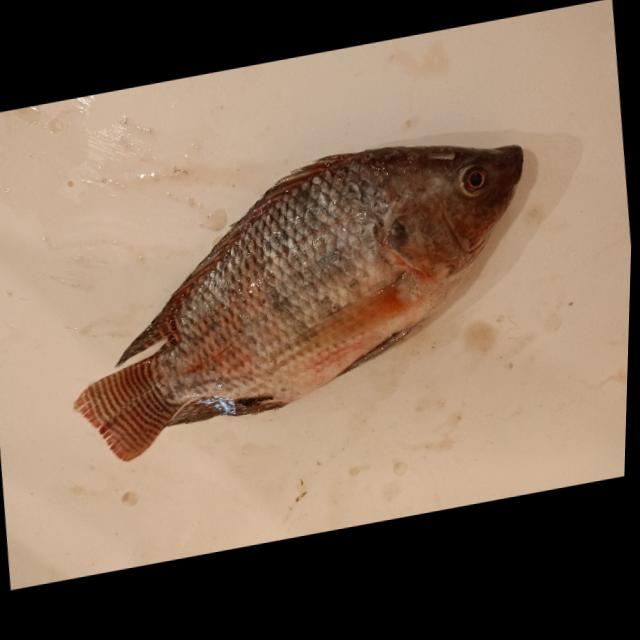Tilapia: (52, 119, 547, 473)
